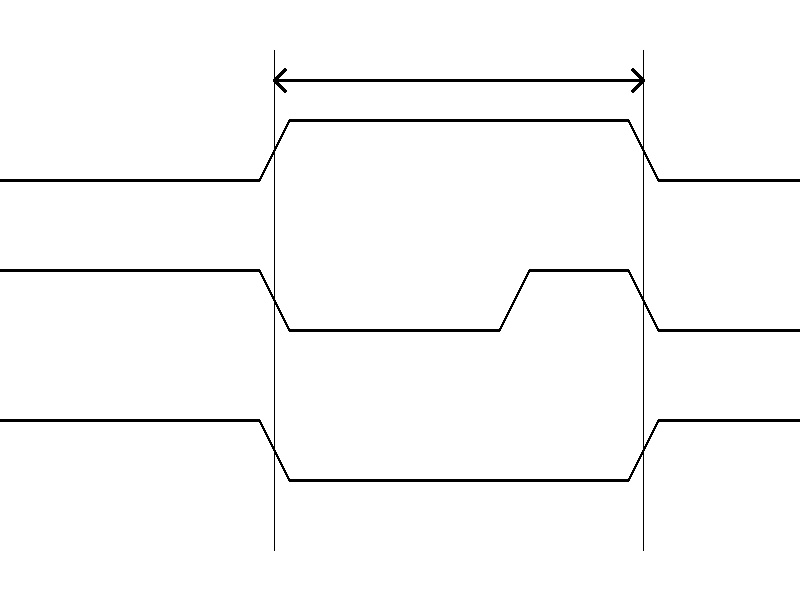double_arrow: (274, 65, 643, 95)
